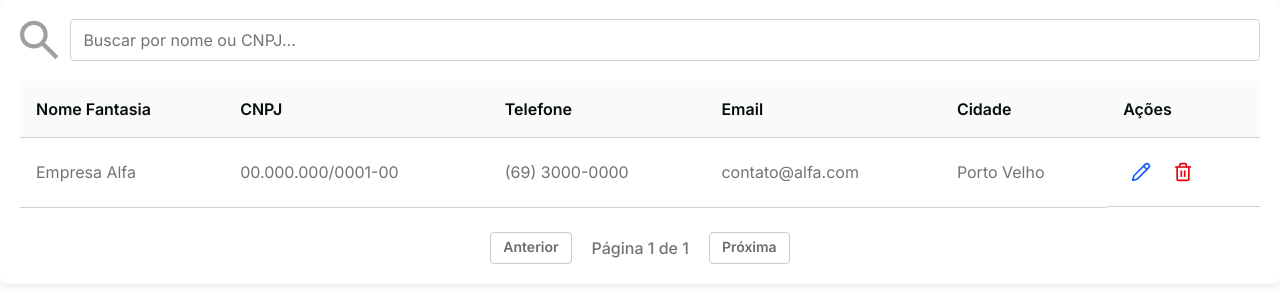
Test: TabelaRegistros › mostra mensagem específica quando a busca não encontra resultados
Expected: the table is shown, [20, 81, 1260, 208]
Type "inexistente" into the field named "Buscar empresa por nome ou CNPJ" at (665, 40), box [70, 19, 1260, 61]
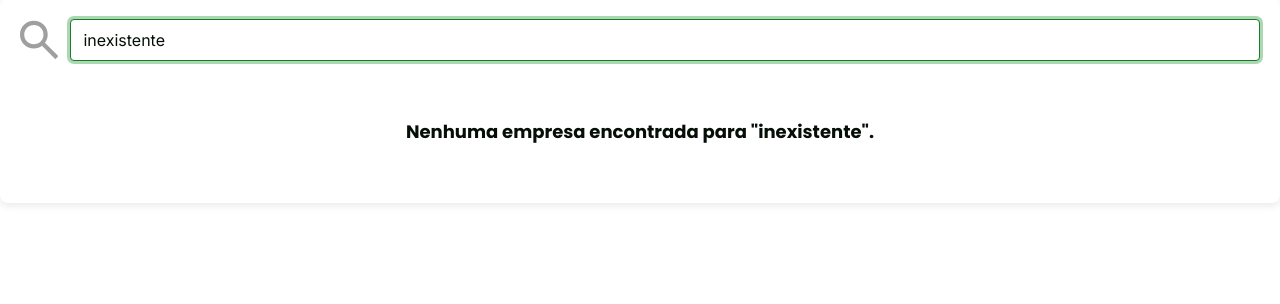
Now the heading "Nenhuma empresa encontrada para \"inexistente\"." is shown, box [406, 121, 874, 143]
